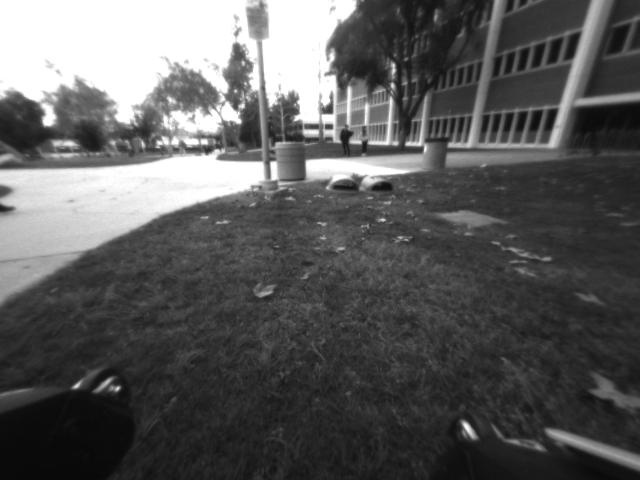trashcan: (275, 141, 311, 182), (419, 136, 446, 174)
